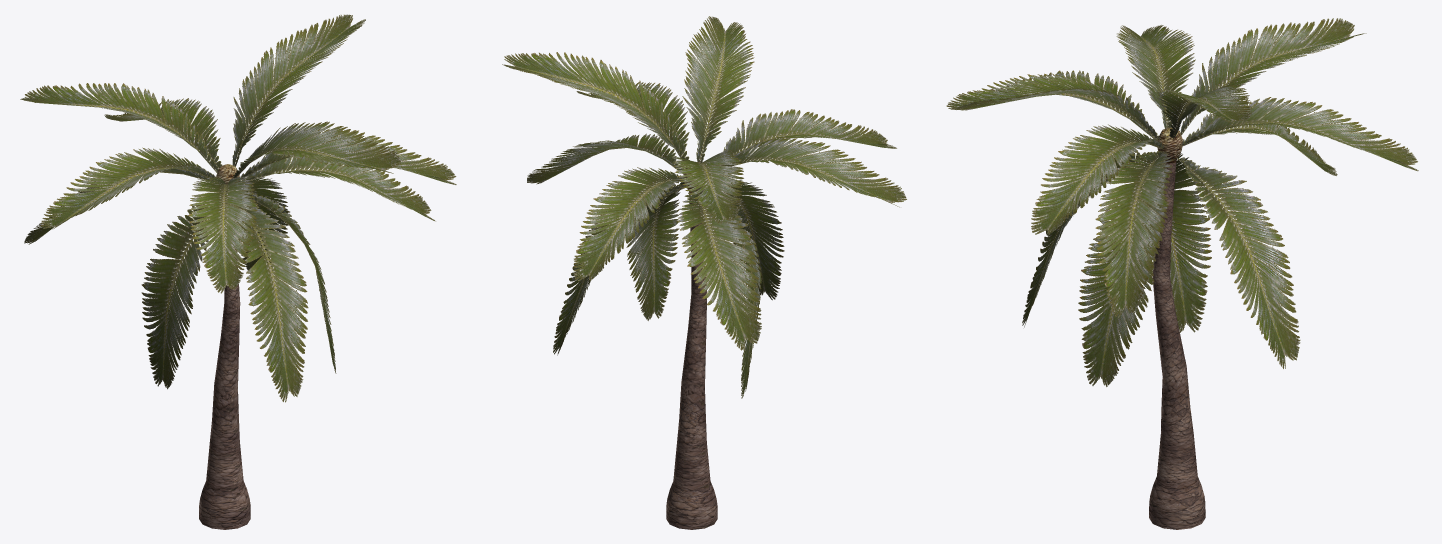
The model's file is PalmTree.fbx.
3 renders of one model, left to right at view 1: azimuth 30°, elevation 25°; view 2: azimuth 150°, elevation 25°; view 3: azimuth 270°, elevation 25°, orthographic. The views are drawn at different scales.
Visible parts, largest first — view 1: pasted__pCylinder2; view 2: pasted__pCylinder2; view 3: pasted__pCylinder2.
Part boxes in pixels (x1,y1,x2,y2): pasted__pCylinder2: (20,14,456,529); pasted__pCylinder2: (502,16,906,529); pasted__pCylinder2: (946,18,1418,529).
Size of the model in its own units: 300 by 324 by 293.
